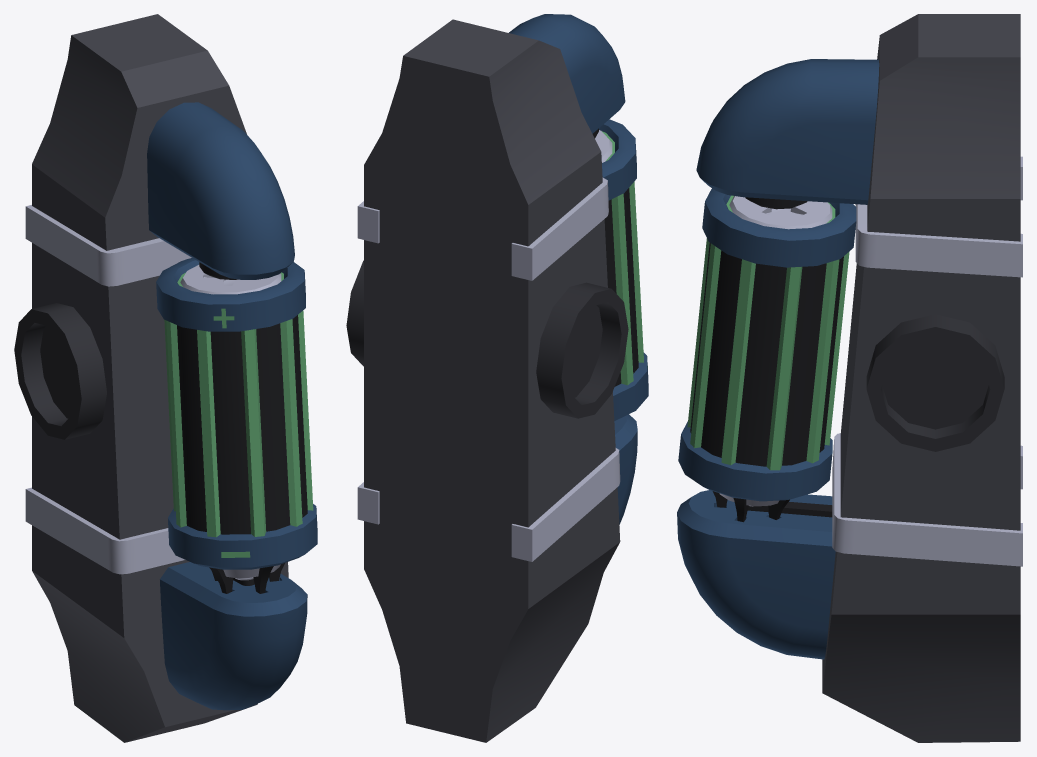
File: Misc_BatteryCharger_X1_B.glb
3 views of the same model, side by side, from view 1: azimuth 30°, elevation 25°; view 2: azimuth 150°, elevation 25°; view 3: azimuth 270°, elevation 25° (orthographic). The views are drawn at different scales.
Visible parts, largest first — view 1: Misc_BatteryCharger_X1_B.001; view 2: Misc_BatteryCharger_X1_B.001; view 3: Misc_BatteryCharger_X1_B.001.
Part boxes in pixels (bbox=[...]): Misc_BatteryCharger_X1_B.001: bbox=[14, 14, 317, 742]; Misc_BatteryCharger_X1_B.001: bbox=[346, 14, 648, 742]; Misc_BatteryCharger_X1_B.001: bbox=[677, 14, 1022, 742].
Bounding box in the file's own units: 0.1041 × 0.3091 × 0.141.
